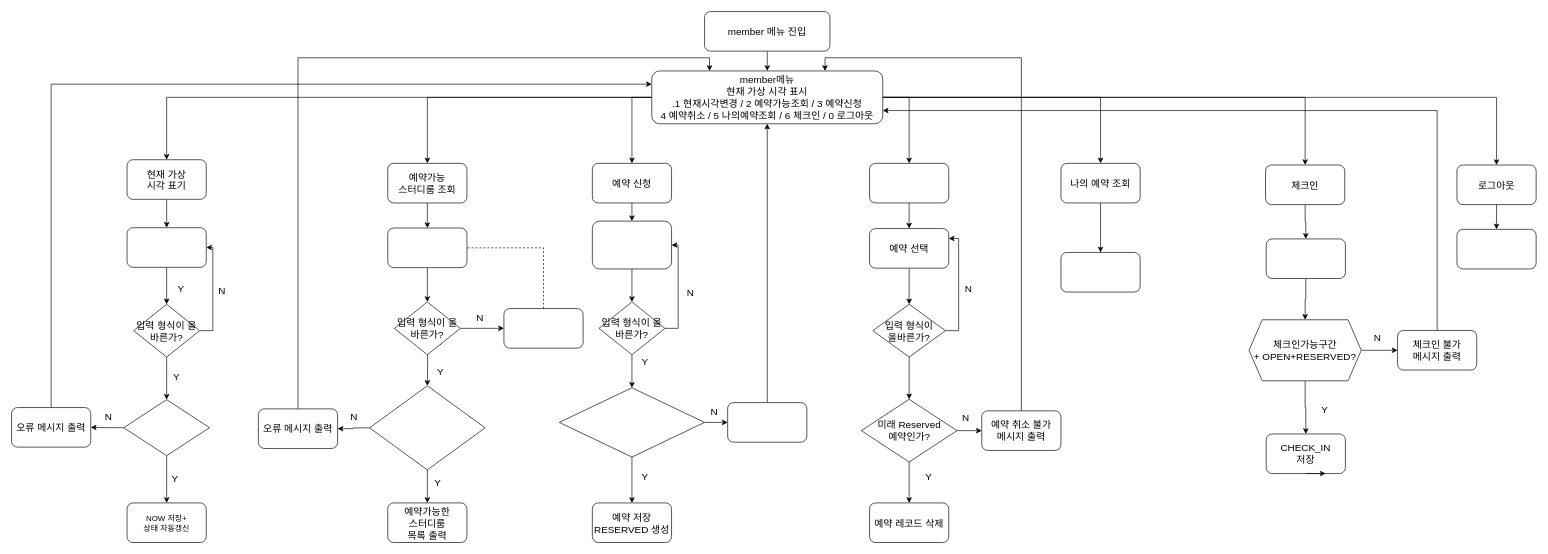
This 1548x554 diagram has some shape labels left out. Here are the shapes that lost their labels. From the top down, the centre of each, then its label:
the point at 909,183: 예약취소
the point at 166,247: 새 현재 시각 입력 yyyy-MM-dd HH:mm
the point at 427,247: 조회 입력 data / startTime / endTime, partySize
the point at 632,244: 예약 정보입력 data / startTime / endTime, partySize,roomdId
the point at 1305,258: 체크인 입력
the point at 1496,249: 로그아웃 처리
the point at 1100,272: 예약 목록 출력
the point at 543,328: 입력 오류 메시지 출력
the point at 166,427: 기존값보다 과거가 아님?
the point at 427,427: OPEN상태이면서 정원과충돌 조건을동시에만족하는룸인가?
the point at 632,422: 현재가상시각보다 미래인가? 동일 룸 충돌과 동일 사용자시간충돌이 없는가?
the point at 767,422: 예약 신청 불가 메시지 출력
